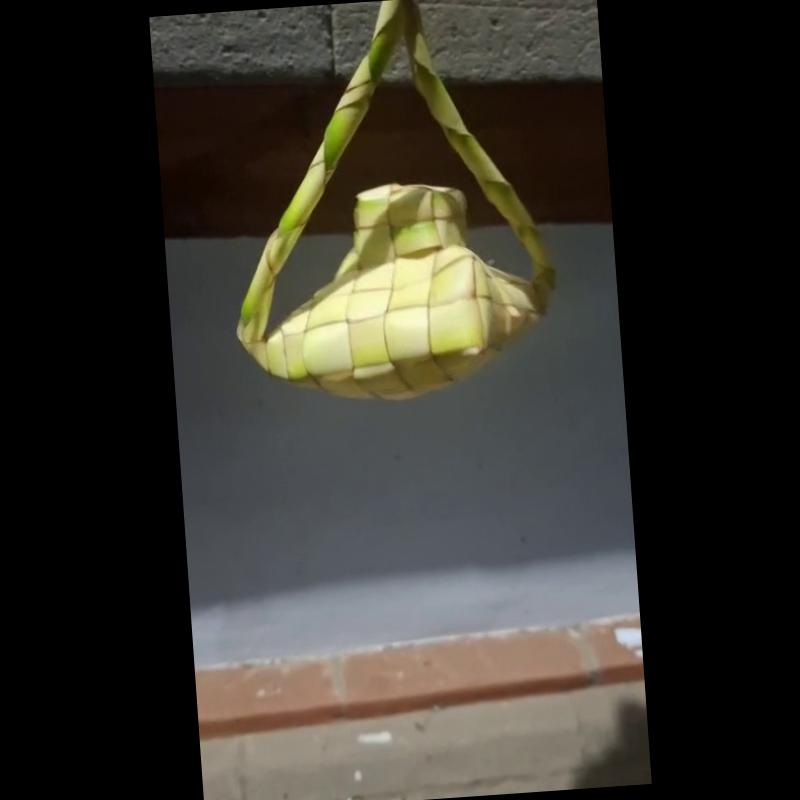Tipat Gong: (233, 0, 560, 407)
